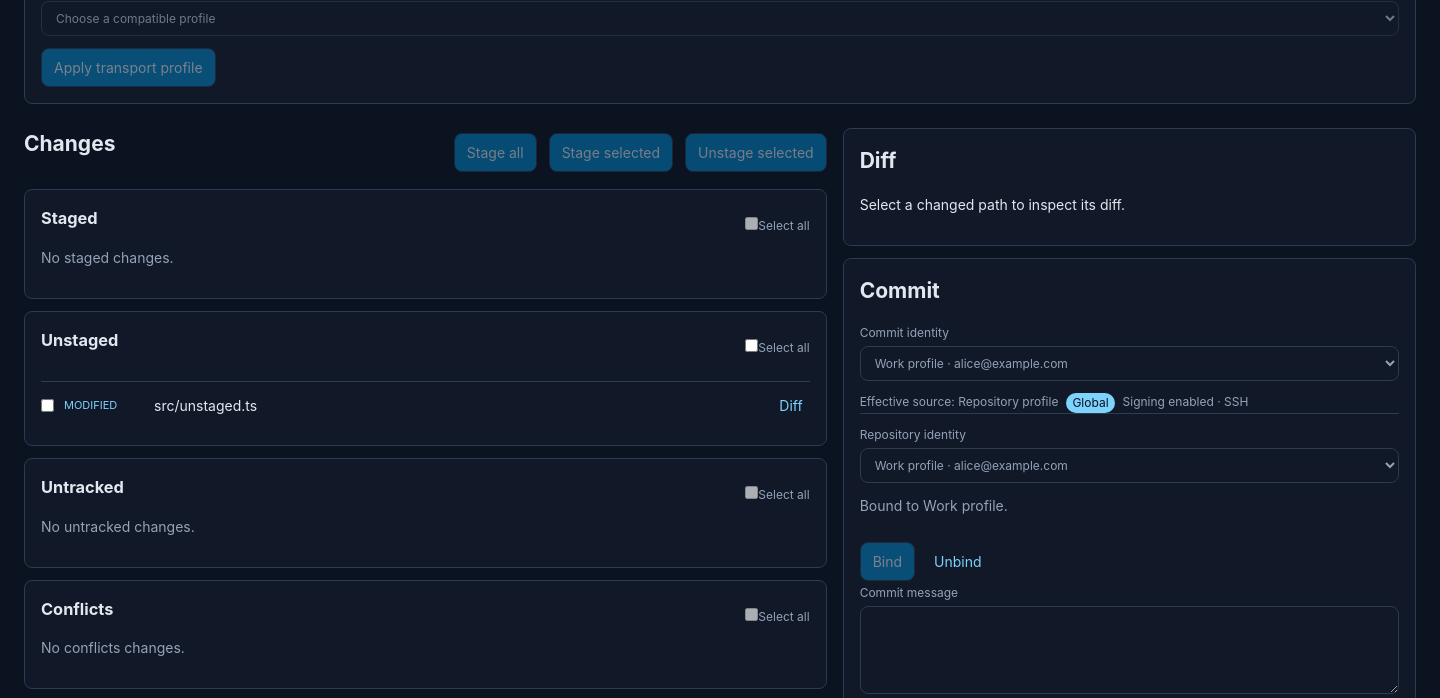
Scenario: RepositoryView › marks a bounded patch when the host truncated its content
(page scrolled)
Click the button with aria-label "View diff for src/unstaged.ts" at (791, 405), box x1=772 y1=390 x2=810 y2=421
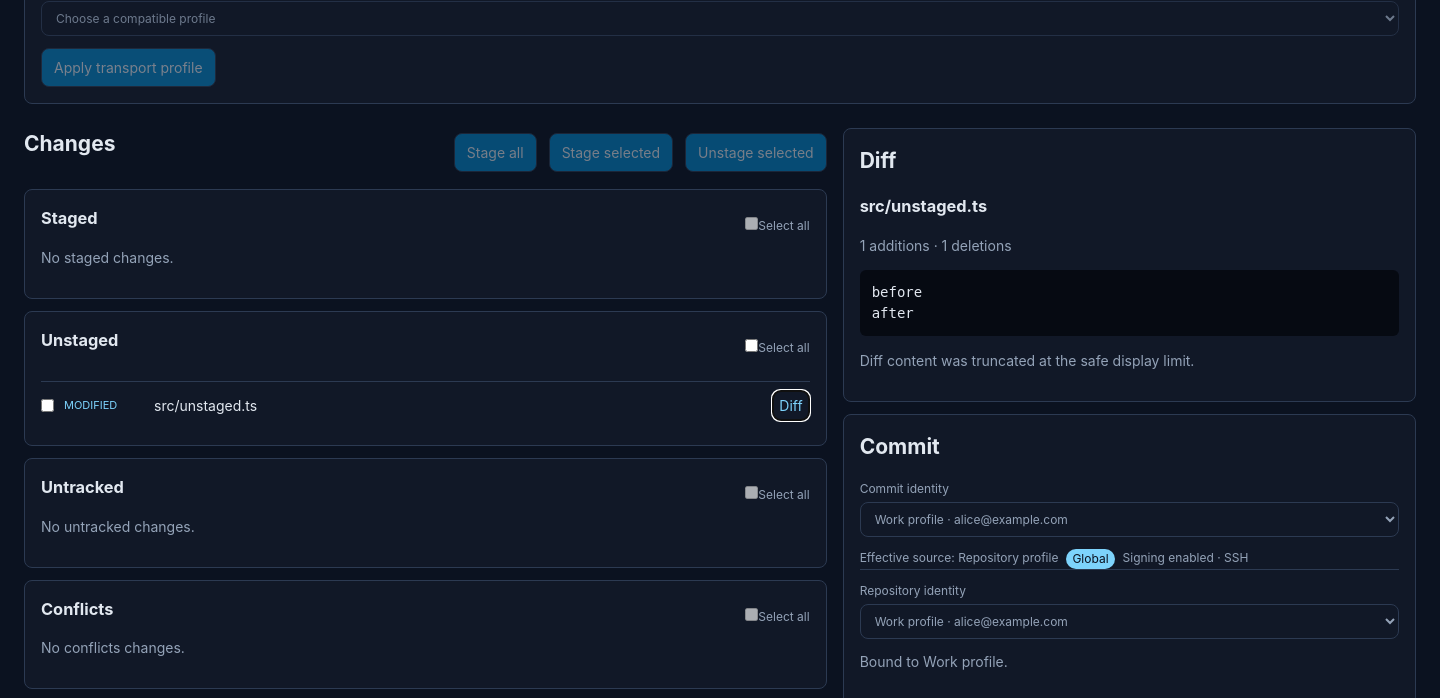
Now the text "Diff content was truncated at the safe display limit." is shown, box x1=860 y1=352 x2=1194 y2=369
